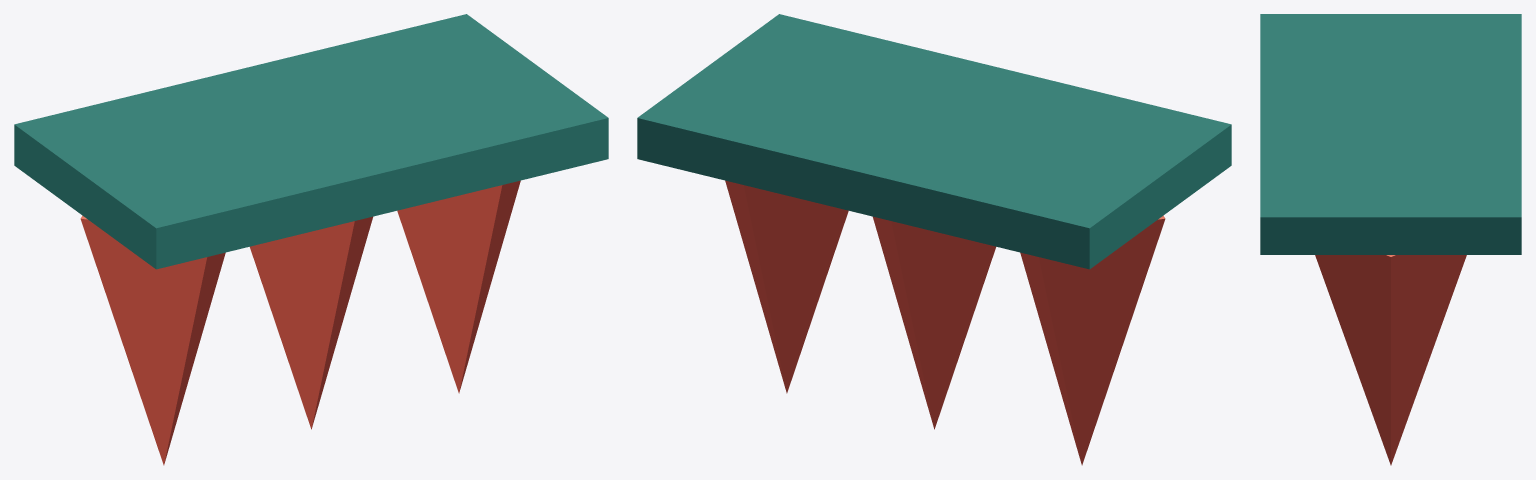
Rendered from Spikes_Down.gltf.
3 renders of one model, left to right at view 1: azimuth 30°, elevation 25°; view 2: azimuth 150°, elevation 25°; view 3: azimuth 270°, elevation 25°, orthographic. The views are drawn at different scales.
Parts seen in each view (by area): view 1: Spikes_Down_baked; view 2: Spikes_Down_baked; view 3: Spikes_Down_baked.
Part boxes in pixels (box(x1,y1,x2,y2)): Spikes_Down_baked: box(14, 14, 608, 465); Spikes_Down_baked: box(637, 14, 1231, 465); Spikes_Down_baked: box(1260, 14, 1521, 465).
Bounding box in the file's own units: 0.9394 × 0.6 × 0.5.
